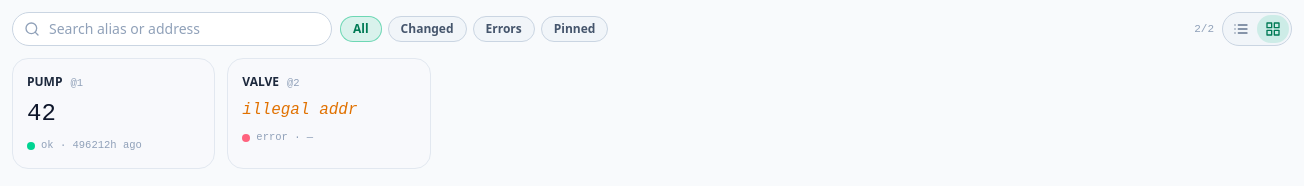
Scenario: RegisterMonitorView › narrows to faulted registers with the Errors filter
The image size is (1304, 186).
Click the button "Errors": {"x": 504, "y": 29} 473,16 -> 535,42
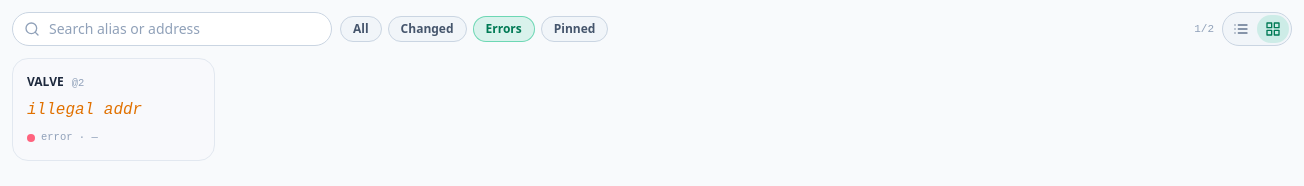
Expected: the text "VALVE" is shown, 27,73 -> 64,91
Now the button "PUMP" is gone
